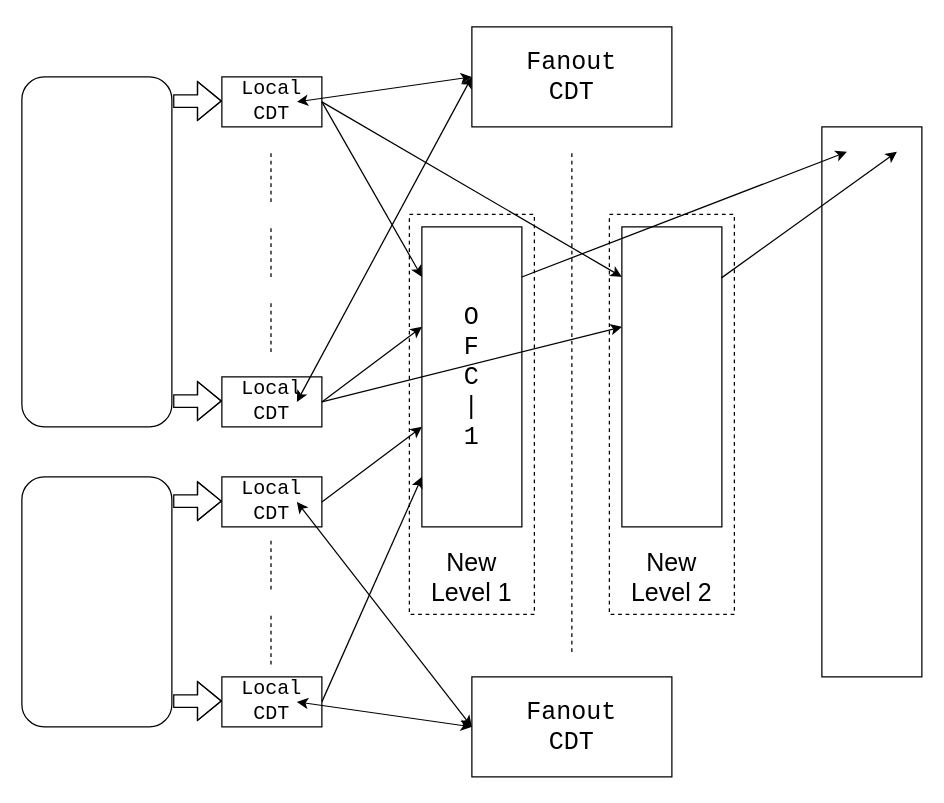
This 944x803 diagram has some shape labels left out. The centre of each missing label's shape, as x and y in pixels:
CsI Calorimeter: the point at 96,251
O F C | 2: the point at 671,376
T o p C D T: the point at 871,401
Veto Detectors: the point at 96,601
